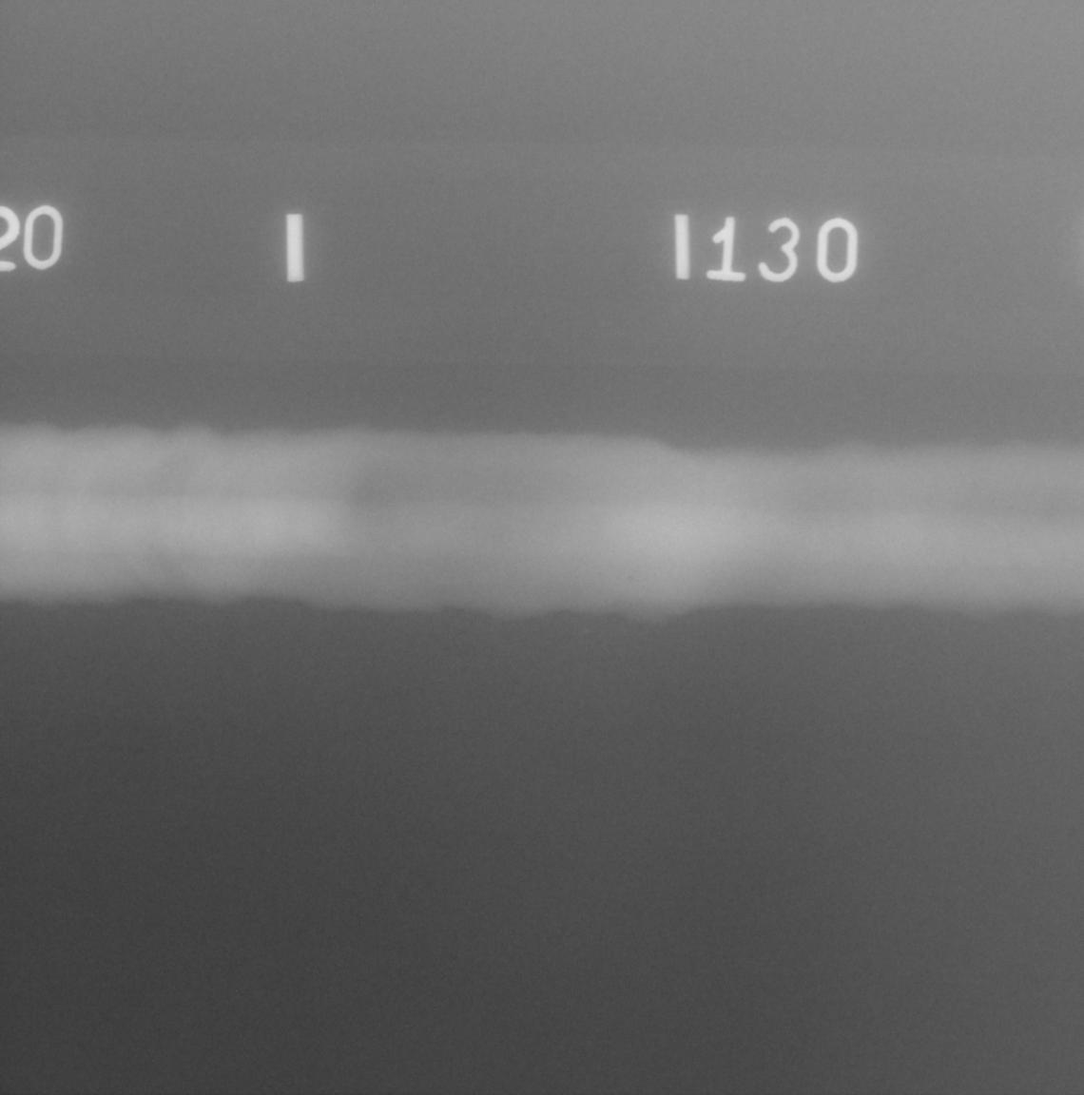Inclusion: (628, 576, 633, 580)
